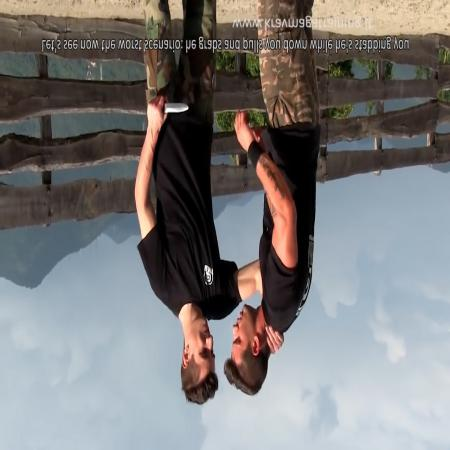long weapon: (145, 92, 189, 120)
